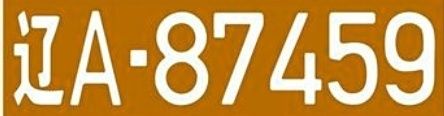A: (71, 11, 120, 105)
